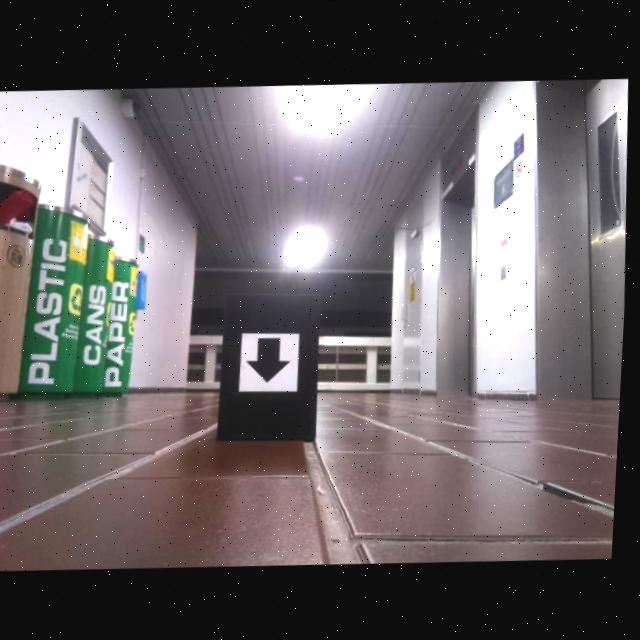DOWN: (249, 337, 296, 383)
